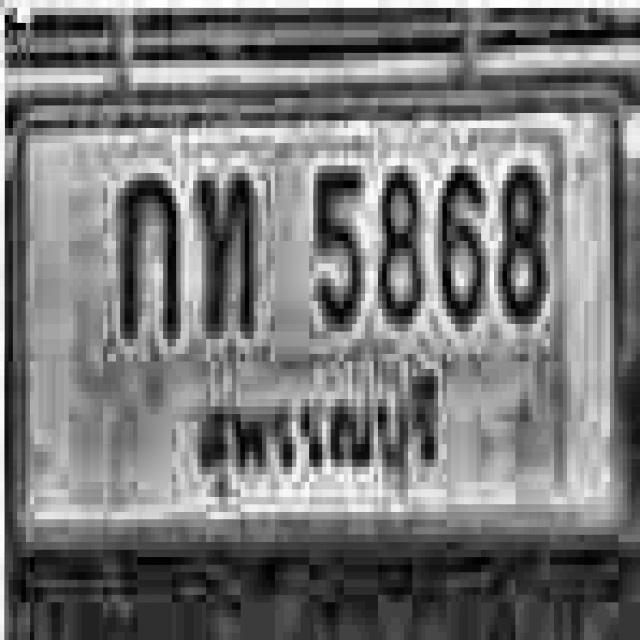license-plate: (9, 68, 637, 559)
